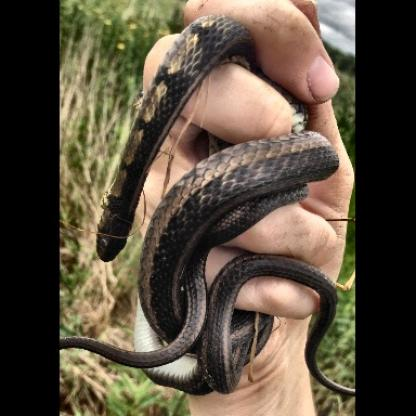Snake: (93, 16, 346, 402)
